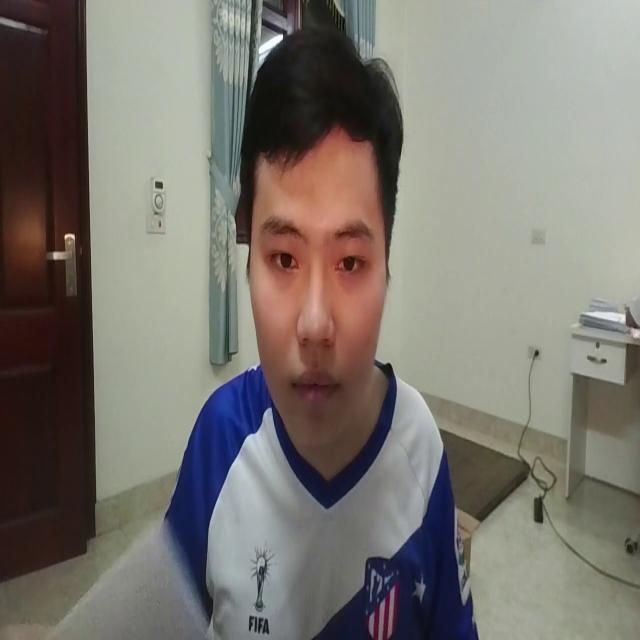book: (40, 517, 220, 640)
student: (140, 22, 495, 640)
